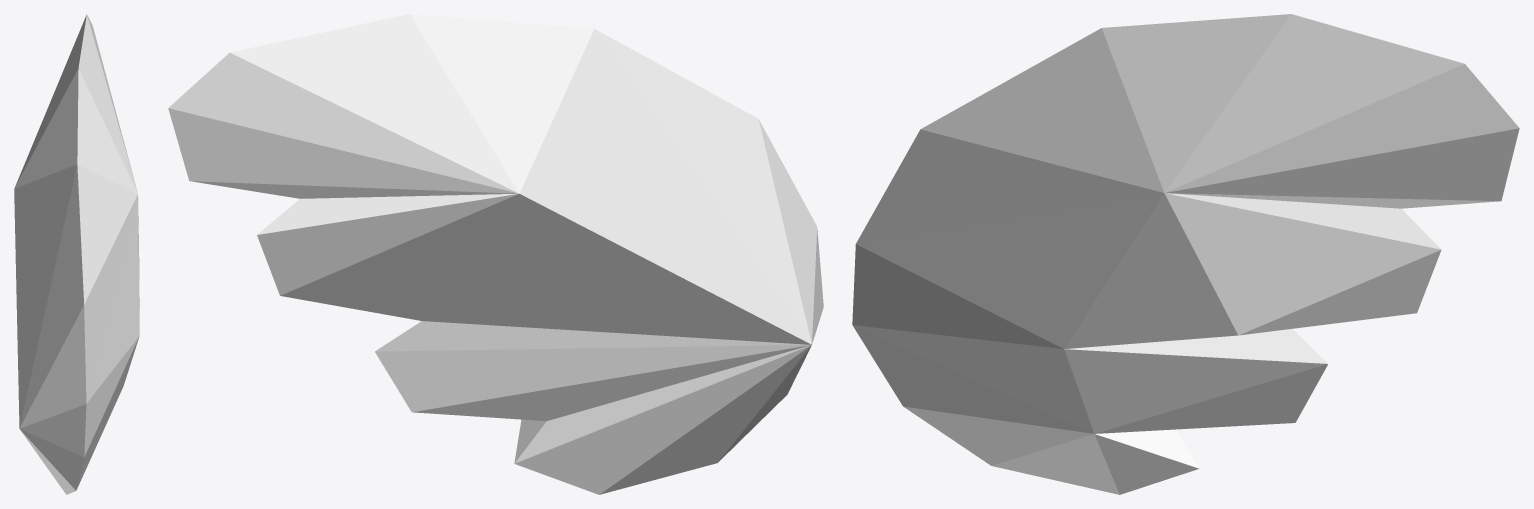
Rendered from AletaIzquierda.obj.
3 renders of one model, left to right at view 1: azimuth 30°, elevation 25°; view 2: azimuth 150°, elevation 25°; view 3: azimuth 270°, elevation 25°, orthographic. The views are drawn at different scales.
Parts seen in each view (by area): view 1: polySurface448; view 2: polySurface448; view 3: polySurface448.
Boxes of the visible parts, left/top/right/bottom form: polySurface448: left=14, top=14, right=139, bottom=494; polySurface448: left=168, top=14, right=823, bottom=494; polySurface448: left=852, top=14, right=1519, bottom=494.
Bounding box in the file's own units: 0.7058 × 0.9185 × 1.04.
1 material, 1 textured.
